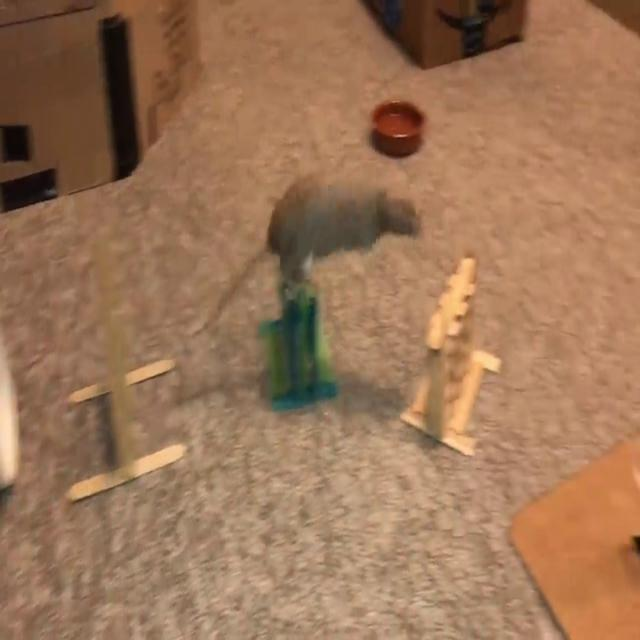rat: (244, 136, 421, 300)
